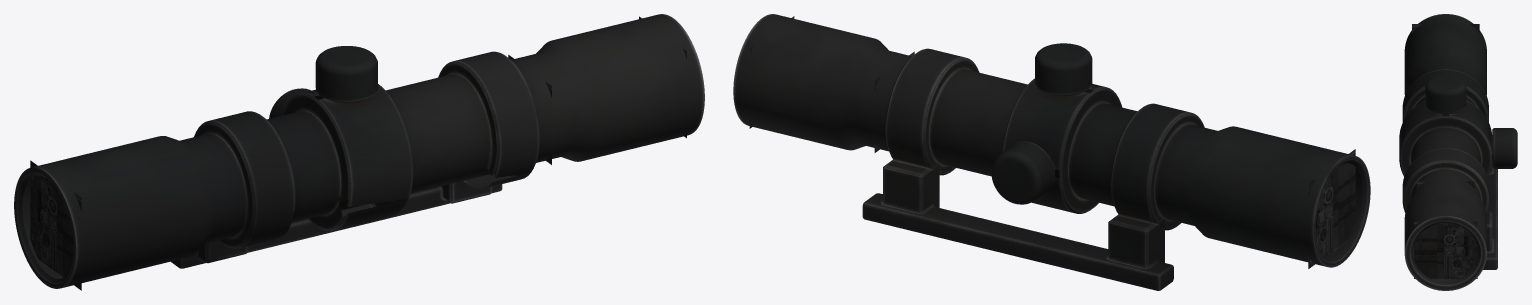
Rendered from afzf4_lod1.fbx.
3 renders of one model, left to right at view 1: azimuth 30°, elevation 25°; view 2: azimuth 150°, elevation 25°; view 3: azimuth 270°, elevation 25°, orthographic. The views are drawn at different scales.
Visible parts, largest first — view 1: STGS_LOD_1; view 2: STGS_LOD_1; view 3: STGS_LOD_1.
Boxes of the visible parts, x1,y1,x2,y2 form: STGS_LOD_1: [14, 14, 704, 290]; STGS_LOD_1: [733, 14, 1370, 290]; STGS_LOD_1: [1399, 14, 1517, 290].
Bounding box in the file's own units: 17.5 × 4.32 × 5.22.
